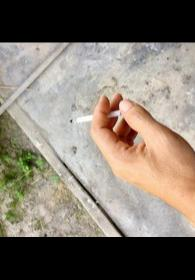Cigarette: (68, 109, 120, 126)
